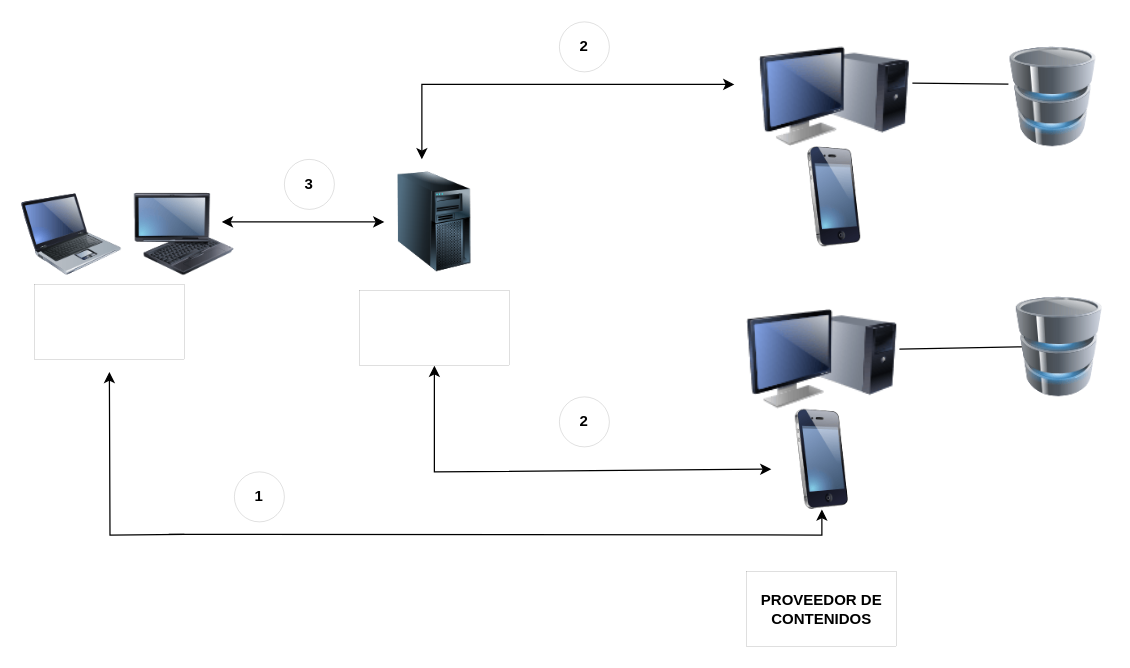
This 1130x668 diagram has some shape labels left out. Each missing label, with the centre of its shape:
"SERVIDOR DE PÁGINAS HÍBRIDAS" belongs at [434,327].
"WEB BROWSER CLIENTE" belongs at [109,321].
